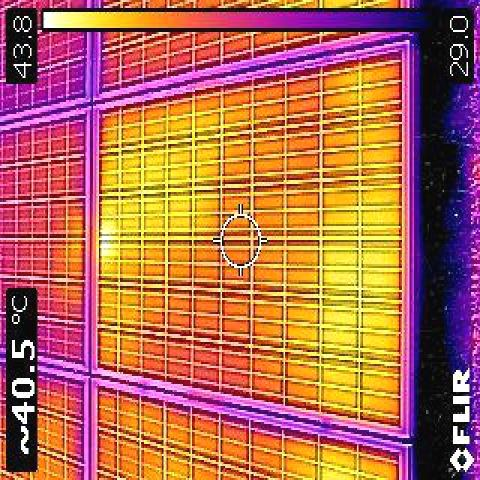fault: (100, 226, 118, 256)
